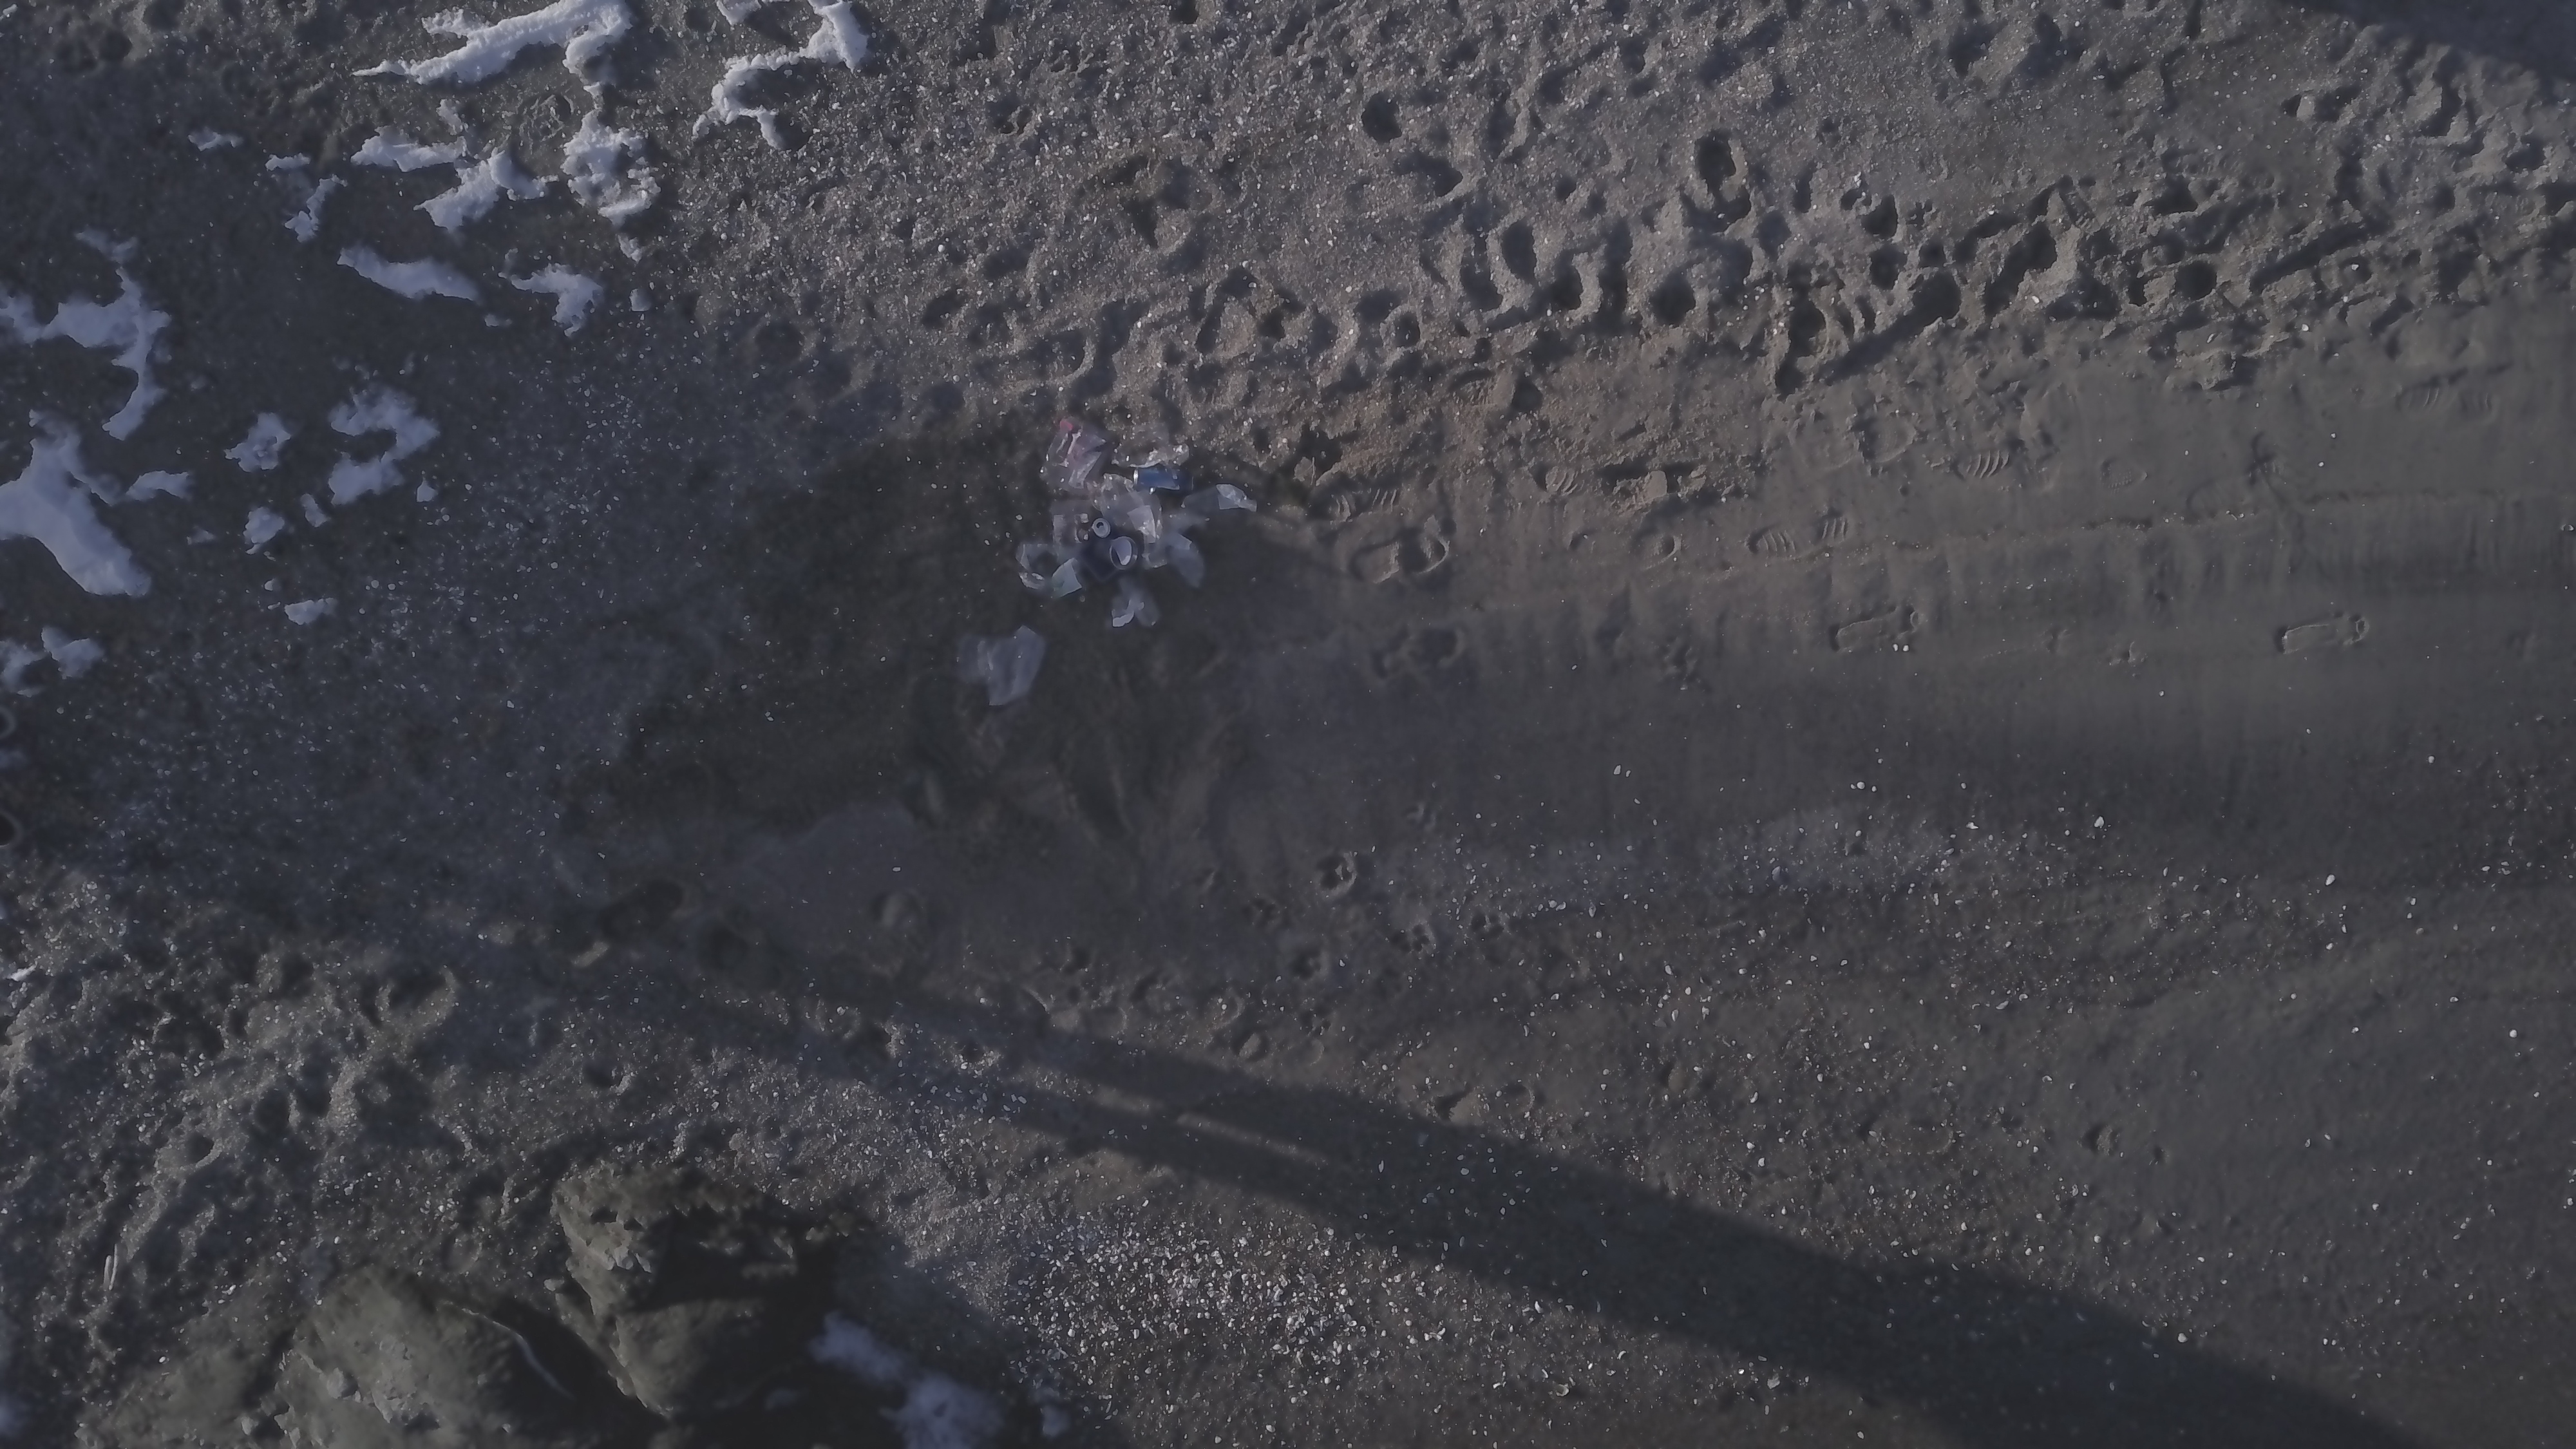Can: (1132, 467, 1196, 495), (1092, 513, 1113, 541)
Plastic: (955, 632, 1046, 704), (1039, 414, 1106, 497), (1092, 472, 1164, 541), (1016, 540, 1083, 605), (1141, 522, 1205, 589), (1111, 419, 1194, 469), (1113, 582, 1171, 632), (1173, 479, 1228, 525), (1212, 476, 1261, 513), (1049, 504, 1092, 540)
